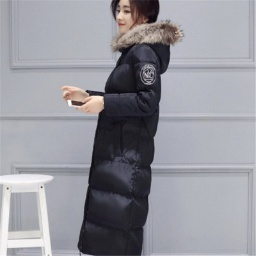face: (105, 1, 181, 35)
